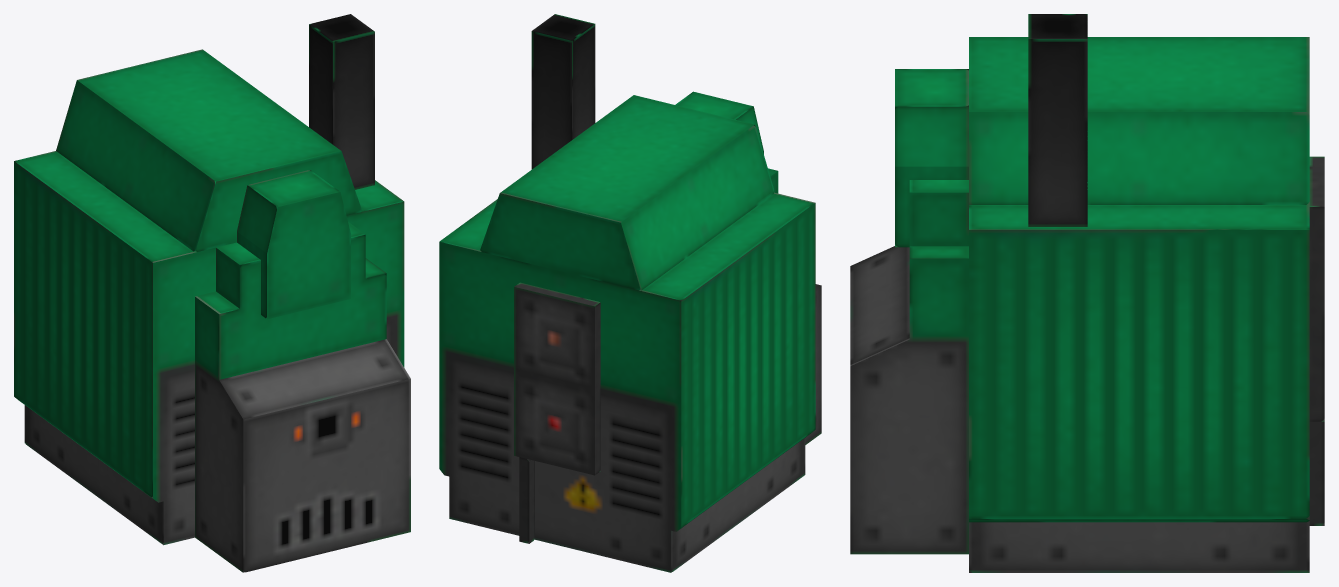
File: mediumcoal.obj
The picture shows the model from 3 angles, left to right: view 1: azimuth 30°, elevation 25°; view 2: azimuth 150°, elevation 25°; view 3: azimuth 270°, elevation 25°; orthographic projection. The views are drawn at different scales.
Parts seen in each view (by area): view 1: mediumcoal; view 2: mediumcoal; view 3: mediumcoal.
Part boxes in pixels (x1=…): mediumcoal: x1=14, y1=14, x2=410, y2=572; mediumcoal: x1=439, y1=14, x2=821, y2=572; mediumcoal: x1=850, y1=14, x2=1324, y2=572.
Bounding box in the file's own units: 3 × 5 × 4.
